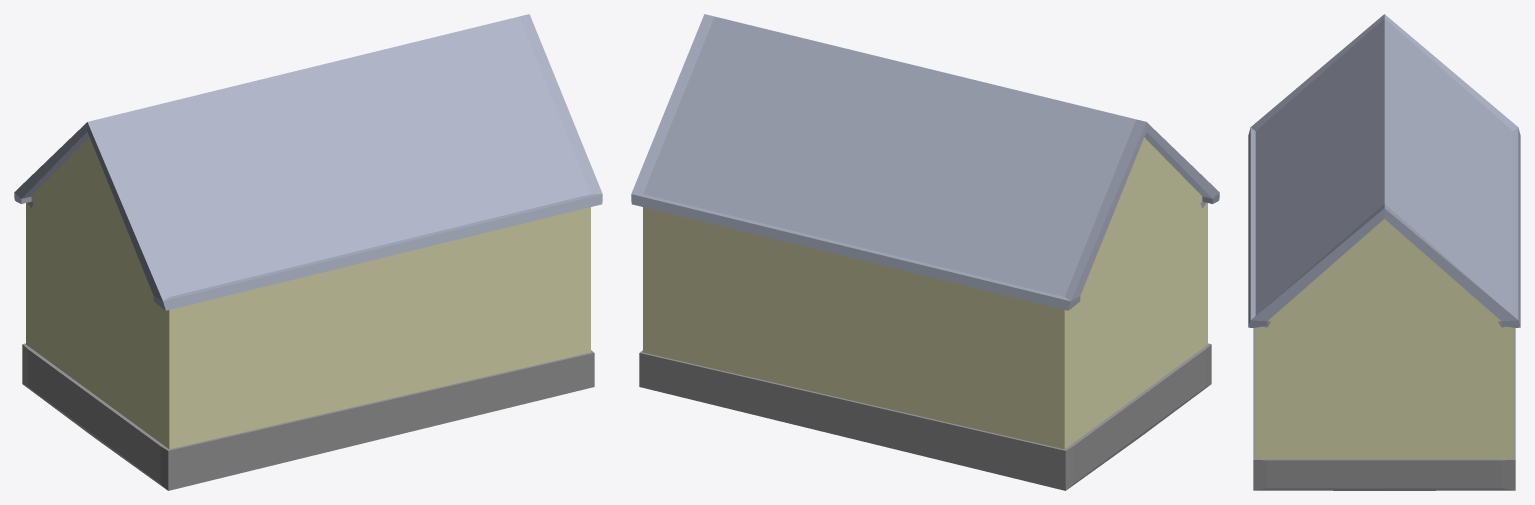
File: kekri_suomitalo1.fbx
3 renders of one model, left to right at view 1: azimuth 30°, elevation 25°; view 2: azimuth 150°, elevation 25°; view 3: azimuth 270°, elevation 25°, orthographic. The views are drawn at different scales.
Visible parts, largest first — view 1: suomitalo1; view 2: suomitalo1; view 3: suomitalo1.
Part boxes in pixels (x1=…): suomitalo1: x1=14, y1=14, x2=602, y2=490; suomitalo1: x1=631, y1=14, x2=1219, y2=490; suomitalo1: x1=1248, y1=14, x2=1520, y2=490.
Size of the model in its own units: 2089 by 1434 by 1239.
